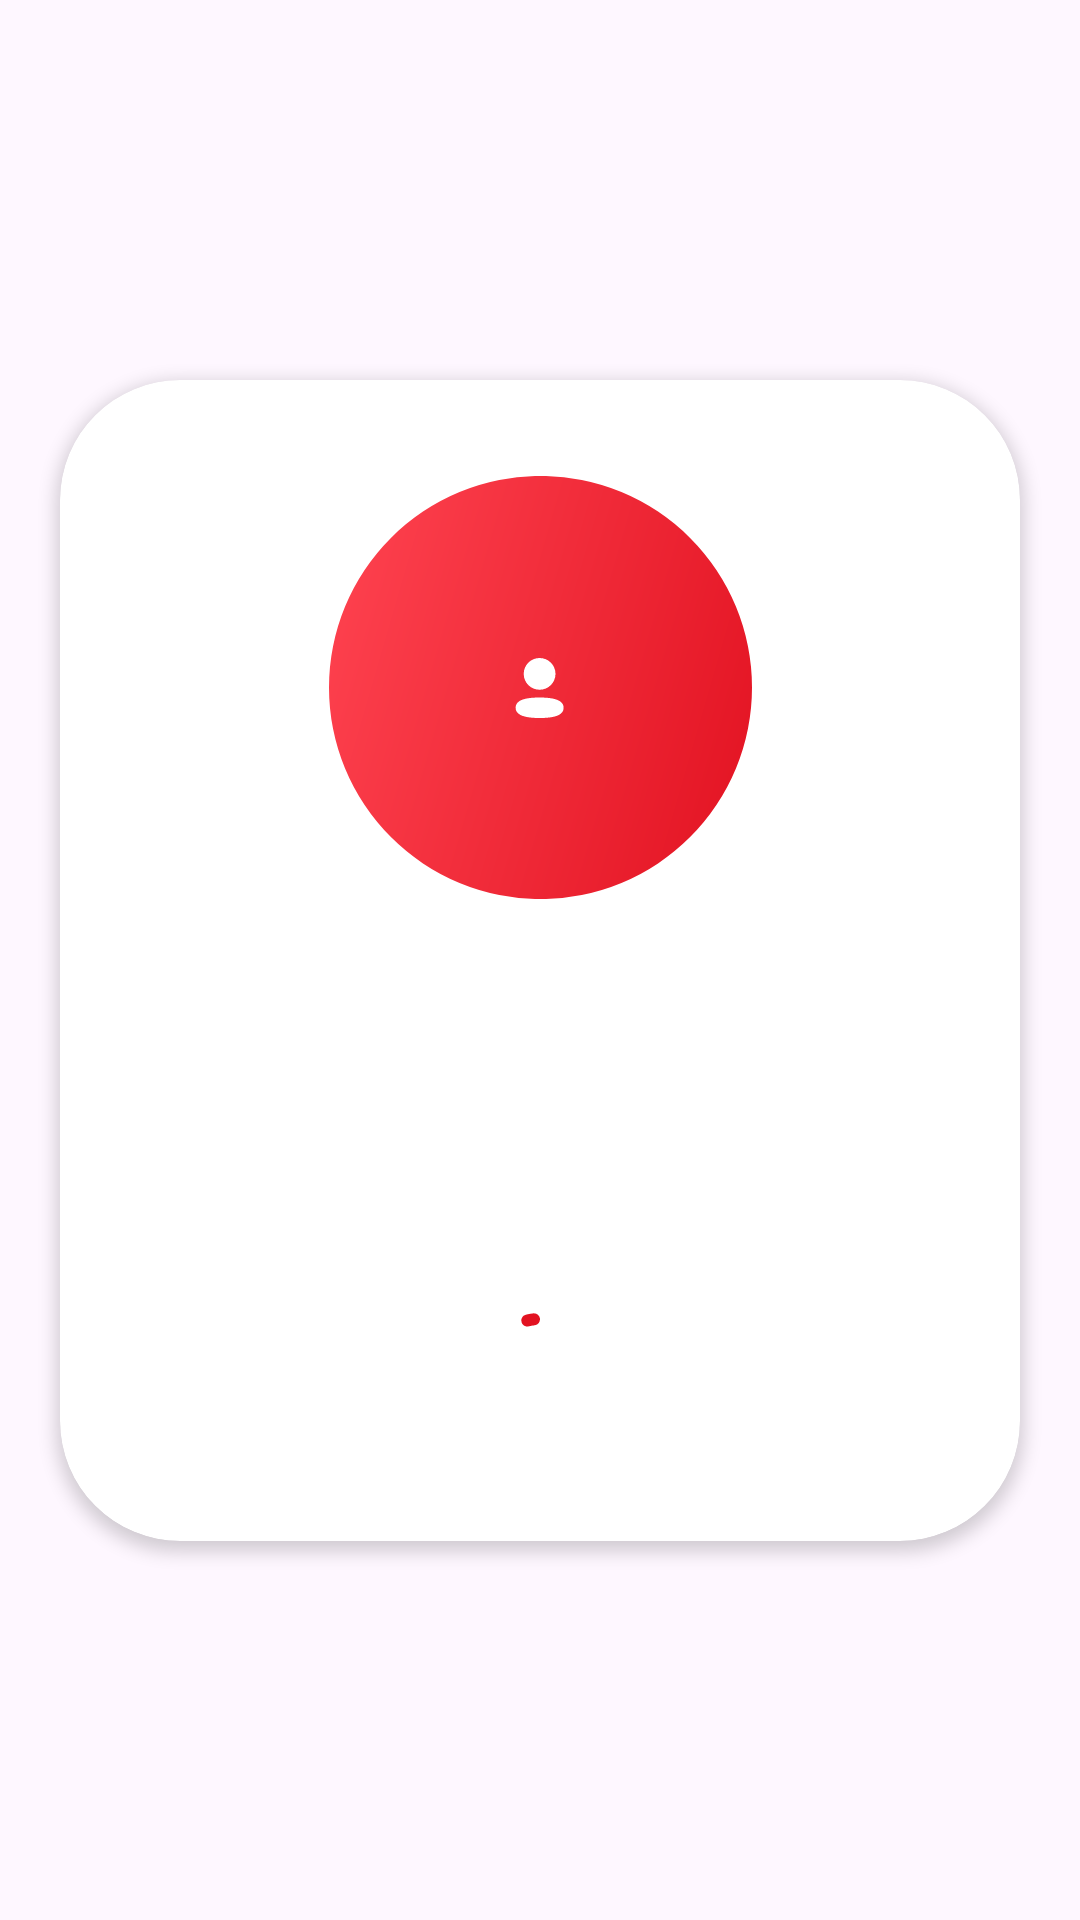

Icon bounding boxes for this 1080*1920 phone screenshot, format (x1, y1, x2, y2):
profile: (515, 658, 564, 718)
